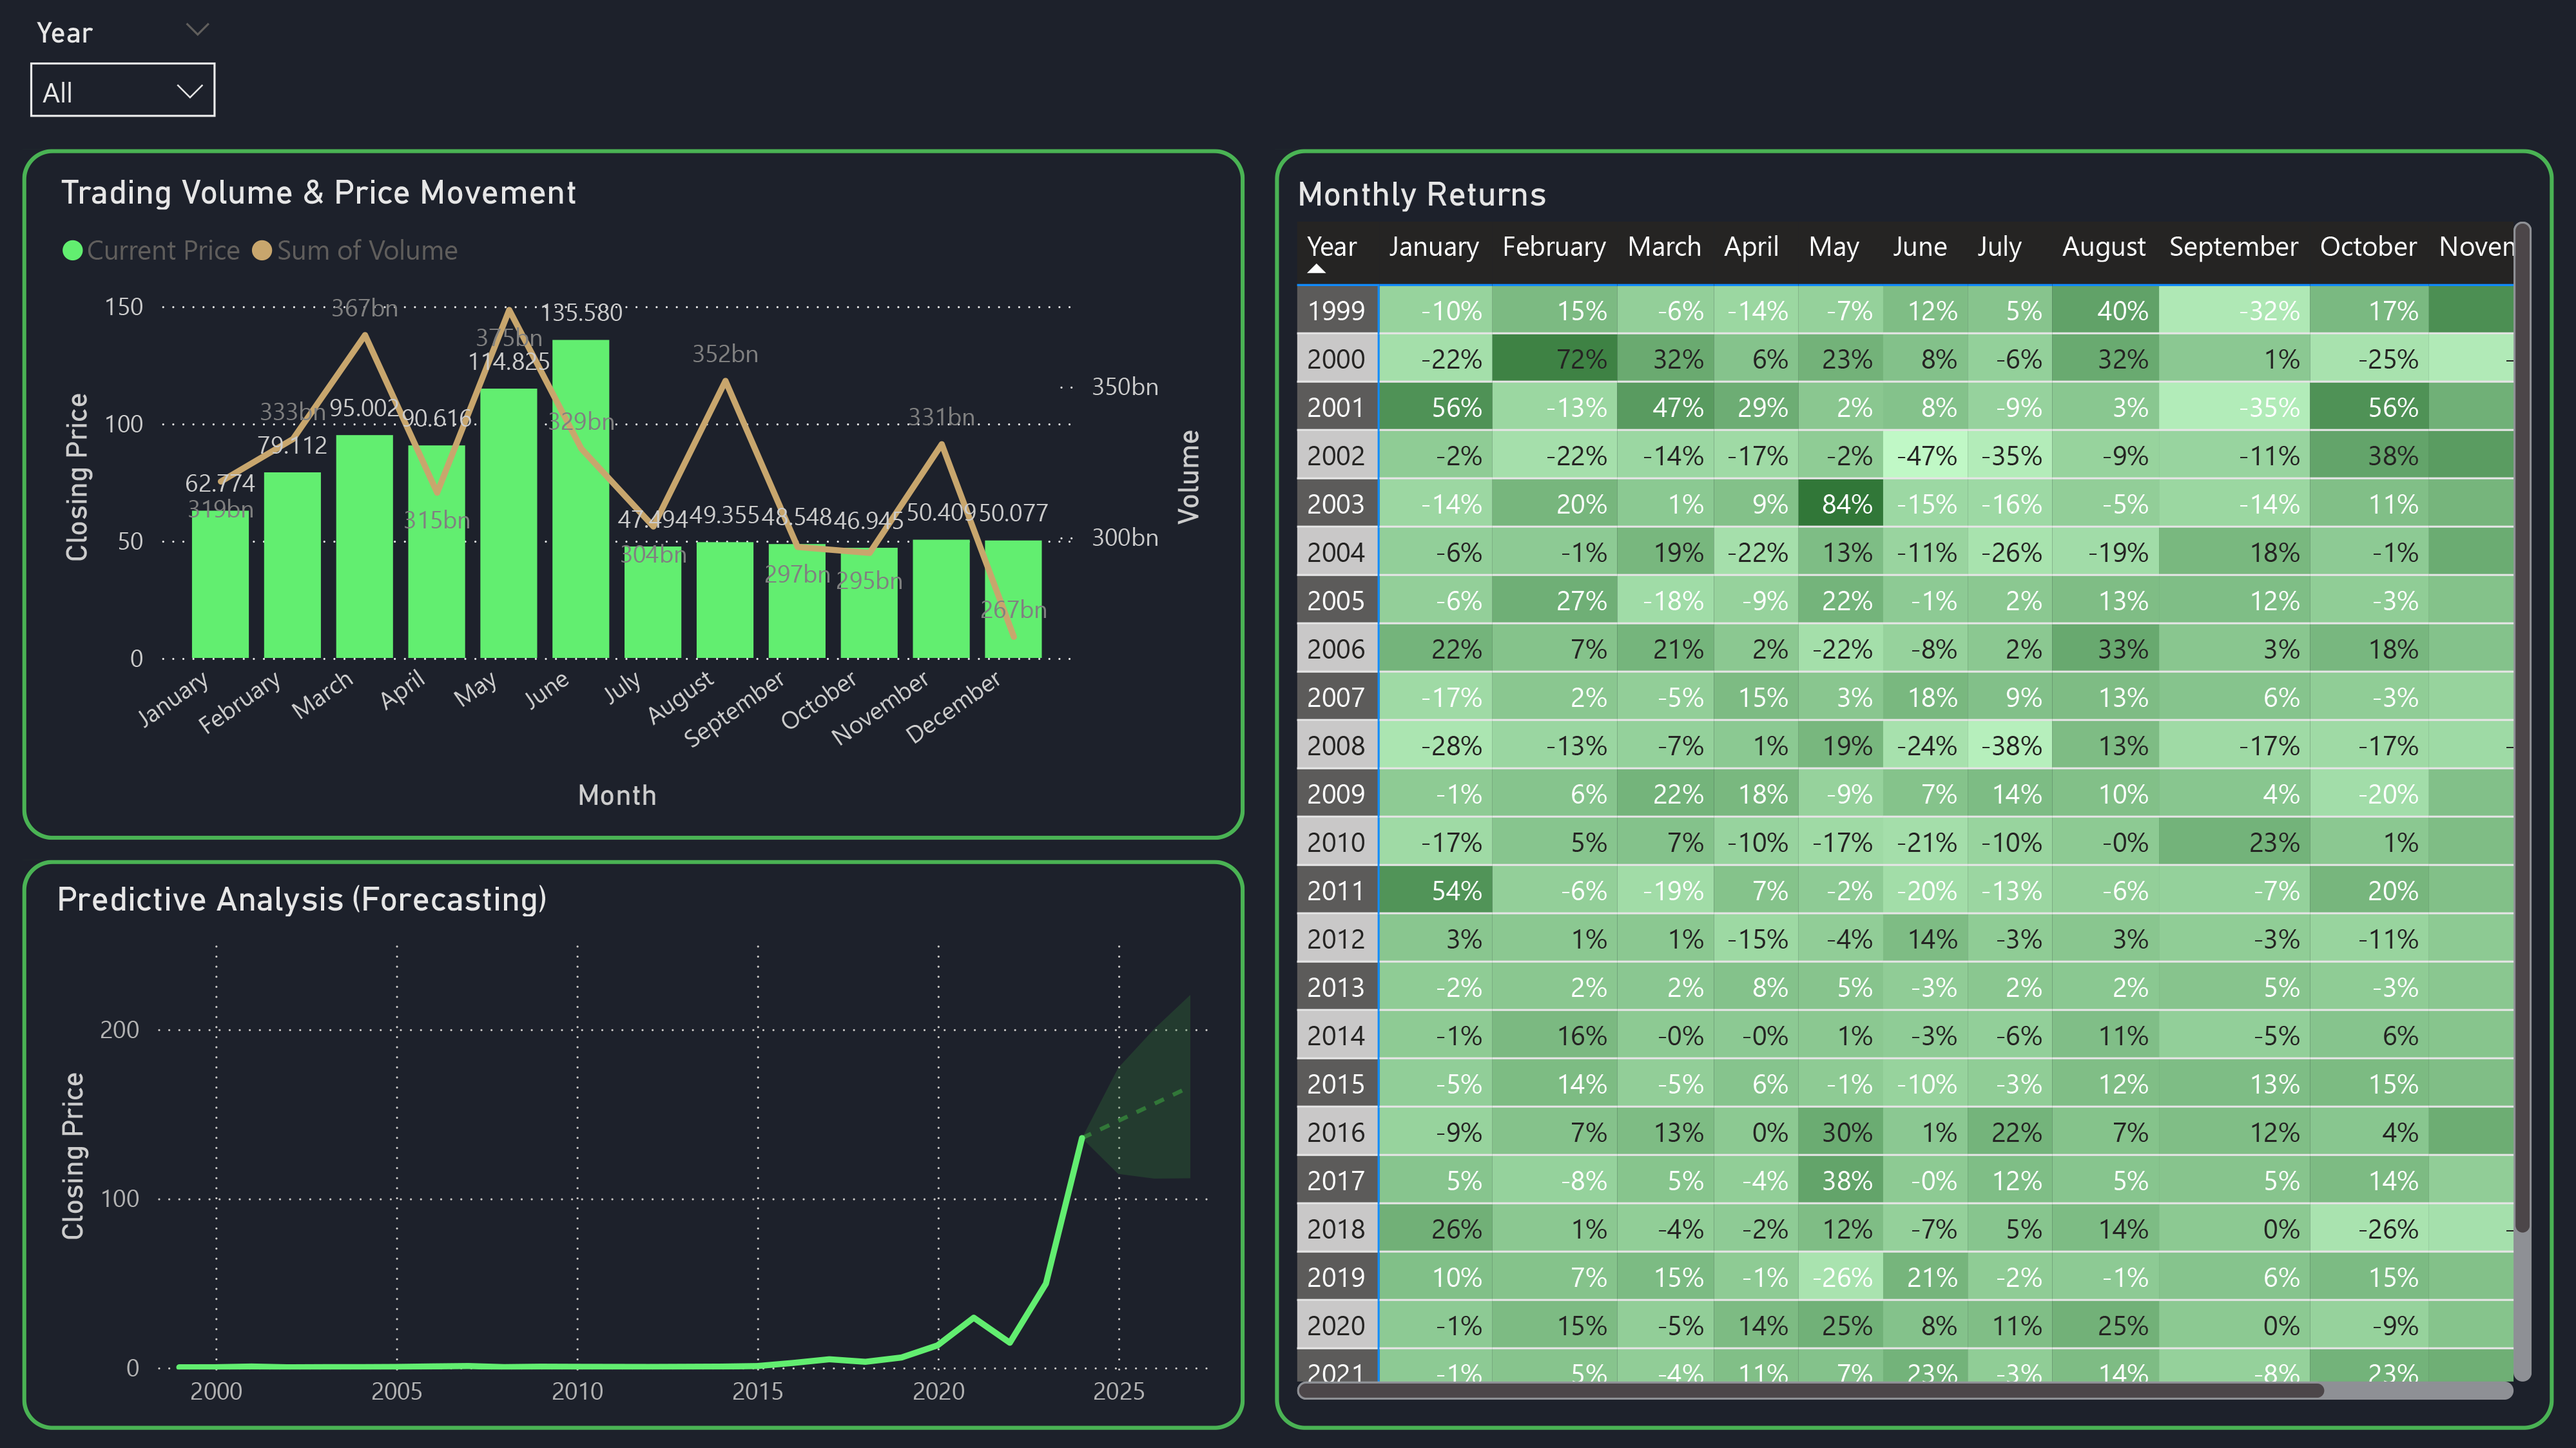

This screenshot's page, from the dashboard's own definition file:
{"tool":"powerbi","page":{"name":"Trading Analysis","canvas":[1280,720],"ordinal":1},"visuals":[{"type":"shape","box":[12.4,75,606.9,343.2],"z":0},{"type":"shape","box":[12.4,427.8,606.9,283.2],"z":1000},{"type":"shape","box":[634.3,75,635.1,636],"z":2000},{"type":"lineStackedColumnComboChart","title":"Trading Volume & Price Movement","fields":{"Y":["NVIDIA.ClosingPrice"],"Y2":["Sum(NVIDIA.Volume)"],"Category":["NVIDIA.Date.Variation.Date Hierarchy.Year","NVIDIA.Date.Variation.Date Hierarchy.Quarter","NVIDIA.Date.Variation.Date Hierarchy.Month"]},"box":[25.6,86.5,576.9,322.9],"z":3000},{"type":"slicer","fields":{"Values":["NVIDIA.Year"]},"box":[6.2,4.4,112,70.6],"z":4000},{"type":"pivotTable","title":"Monthly Returns","fields":{"Rows":["NVIDIA.Year"],"Columns":["NVIDIA.Month Name"],"Values":["NVIDIA.Monthly Return 2"]},"box":[640.4,87.3,622.8,614],"z":5000},{"type":"lineChart","title":"Predictive Analysis (Forecasting)","fields":{"Category":["NVIDIA.Date.Variation.Date Hierarchy.Year","NVIDIA.Date.Variation.Date Hierarchy.Quarter","NVIDIA.Date.Variation.Date Hierarchy.Month","NVIDIA.Date.Variation.Date Hierarchy.Day"],"Y":["NVIDIA.ClosingPrice"]},"box":[23.8,436.7,585.7,273.5],"z":6000}]}

Visuals, with their boxes in screenshot pixels (x1, y1, x2, y2), scaled from the page's 1280x720 canvas onto the 2576x1448 screenshot:
shape: <region>25, 151, 1246, 841</region>
shape: <region>25, 860, 1246, 1430</region>
shape: <region>1277, 151, 2555, 1430</region>
"Trading Volume & Price Movement" lineStackedColumnComboChart: <region>52, 174, 1212, 824</region>
slicer - NVIDIA.Year: <region>12, 9, 238, 151</region>
"Monthly Returns" pivotTable: <region>1289, 175, 2542, 1411</region>
"Predictive Analysis (Forecasting)" lineChart: <region>48, 878, 1226, 1428</region>
